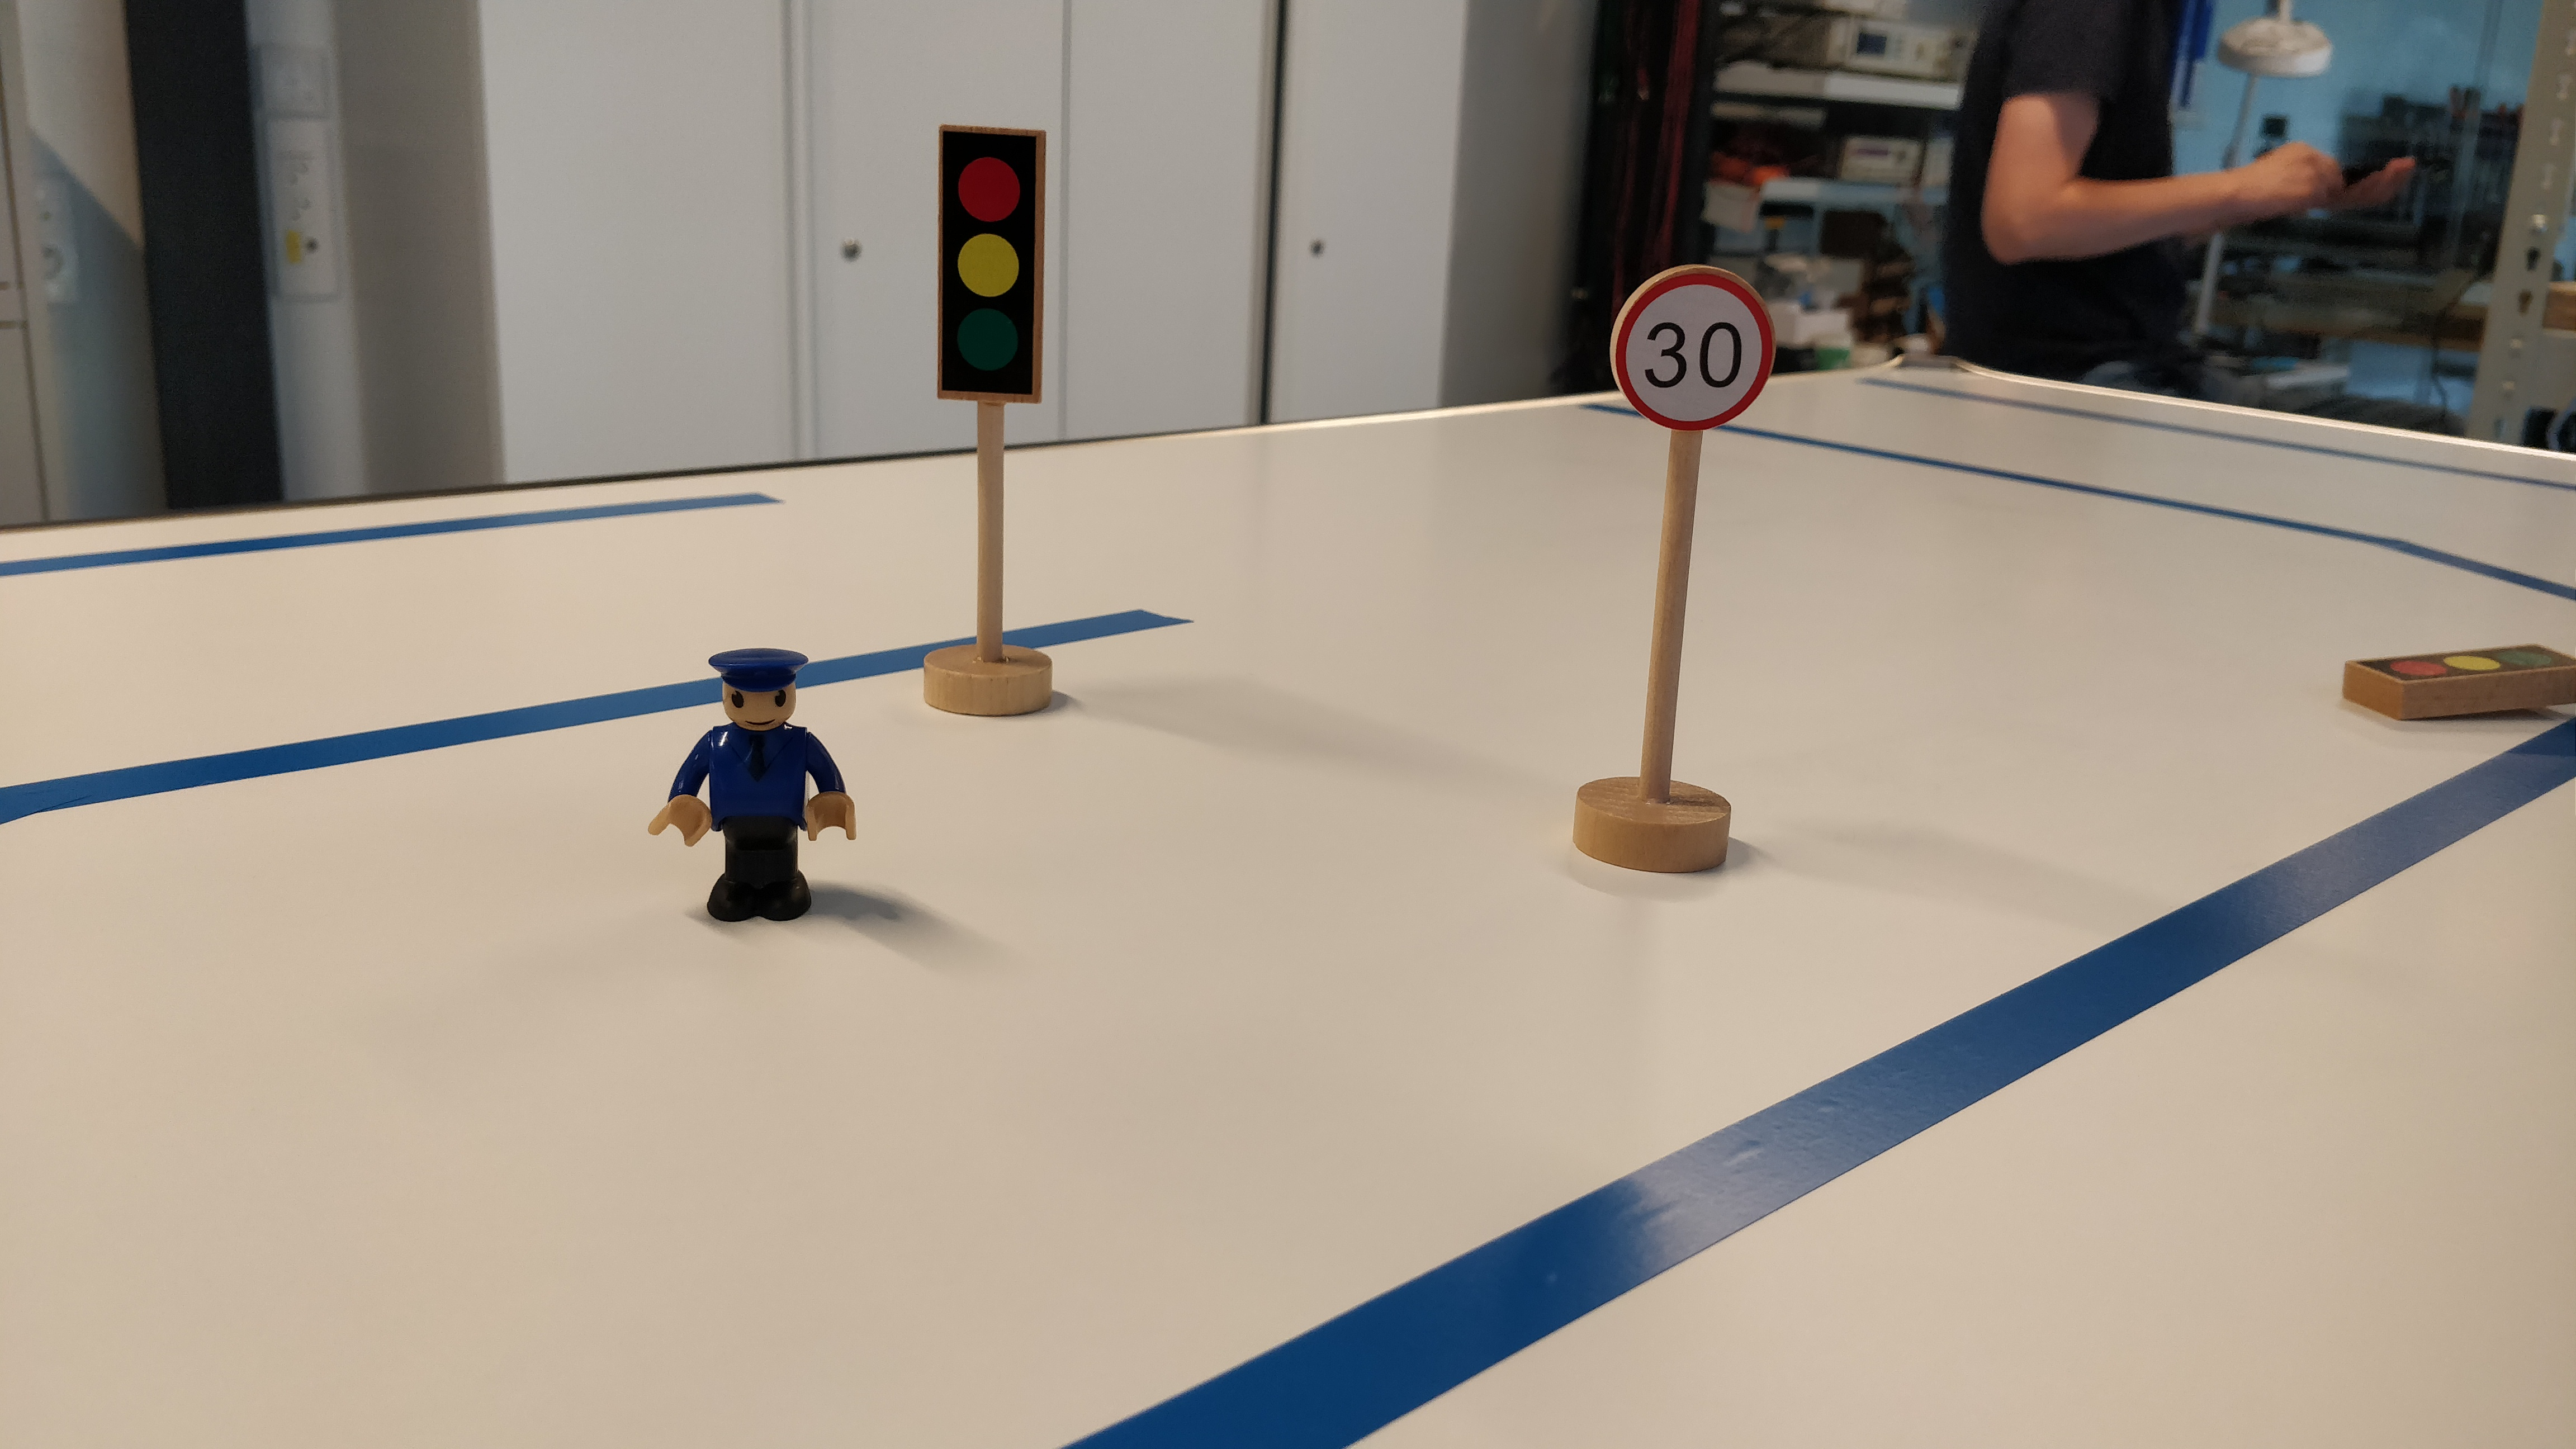Person: (638, 642, 864, 925)
Speed Limit 30: (1609, 262, 1781, 437)
Traffic Light: (934, 117, 1054, 406)
